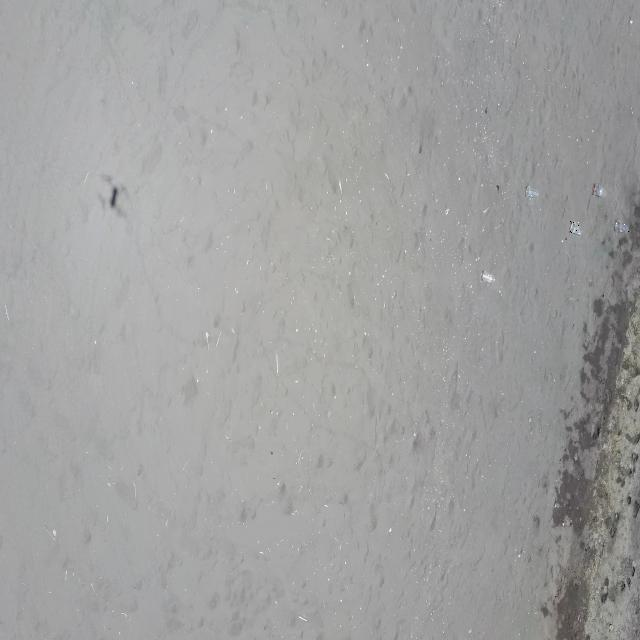takeaway-cup: (615, 219, 629, 234), (594, 183, 606, 198), (482, 271, 495, 284), (570, 221, 582, 235), (526, 185, 538, 199)
